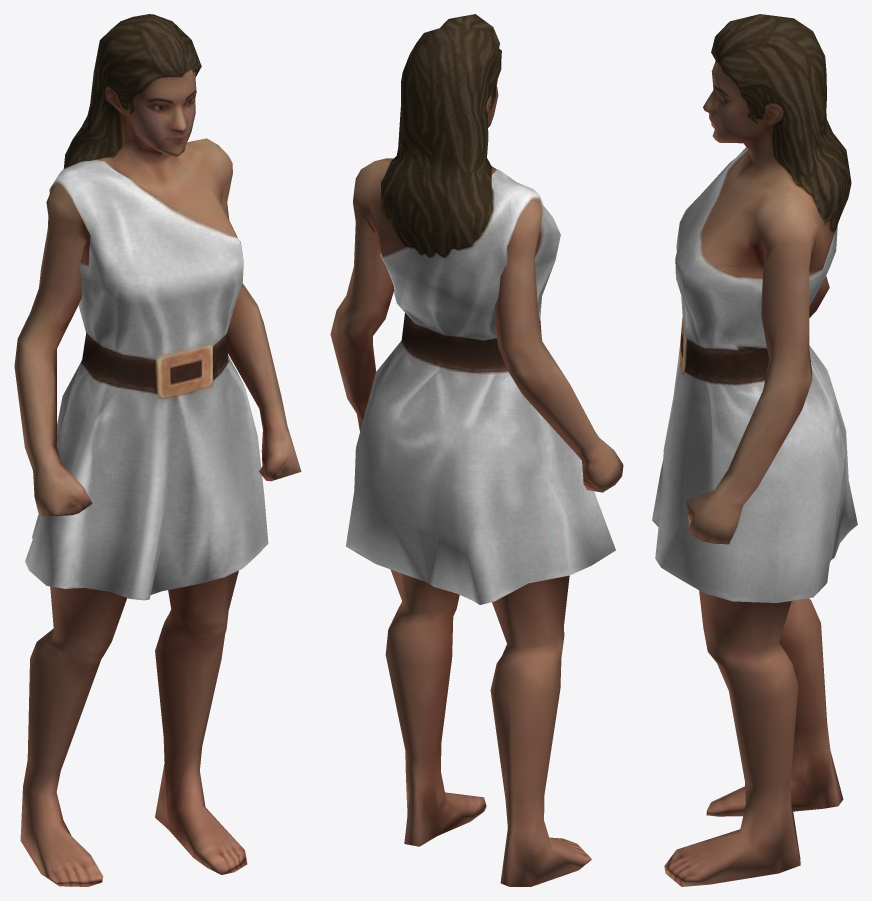
The model's file is body-female-base.glb.
3 renders of one model, left to right at view 1: azimuth 30°, elevation 25°; view 2: azimuth 150°, elevation 25°; view 3: azimuth 270°, elevation 25°, orthographic.
Size of the model in its own units: 0.664 by 2.09 by 0.4626.
1 material, 1 textured.
